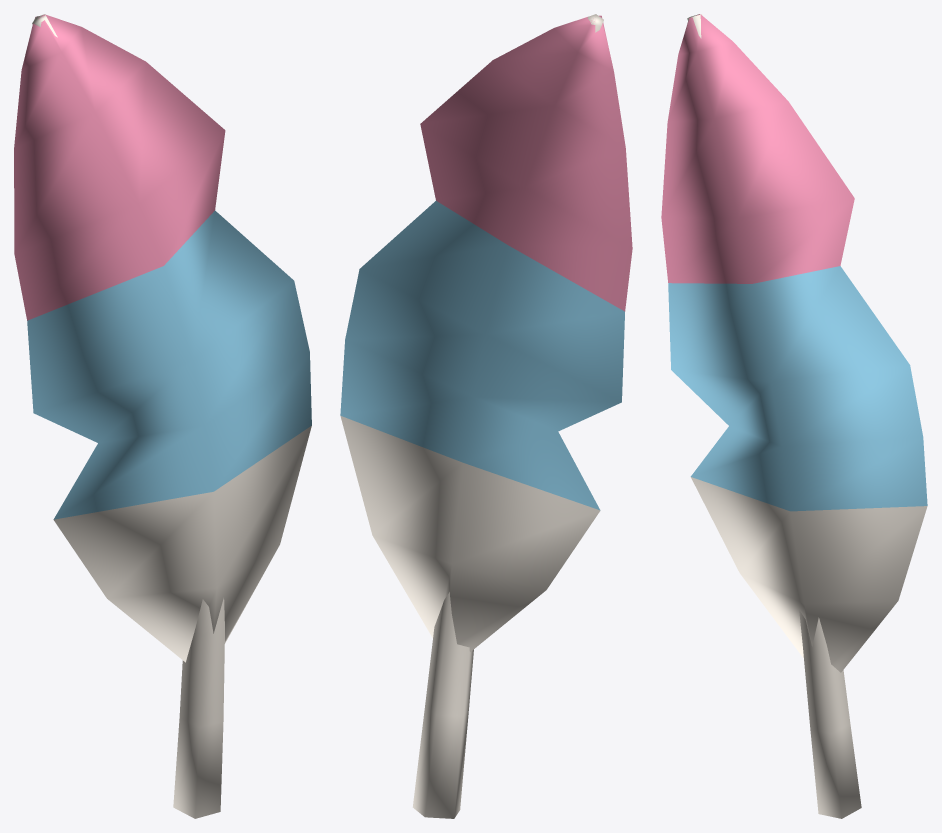
File: feather.glb
3 renders of one model, left to right at view 1: azimuth 30°, elevation 25°; view 2: azimuth 150°, elevation 25°; view 3: azimuth 330°, elevation 25°, orthographic. The views are drawn at different scales.
Visible parts, largest first — view 1: feather; view 2: feather; view 3: feather.
Boxes of the visible parts, x1,y1,x2,y2 form: feather: (14,14,311,818); feather: (340,14,632,818); feather: (661,14,927,818).
Bounding box in the file's own units: 0.1694 × 0.4573 × 0.047.
